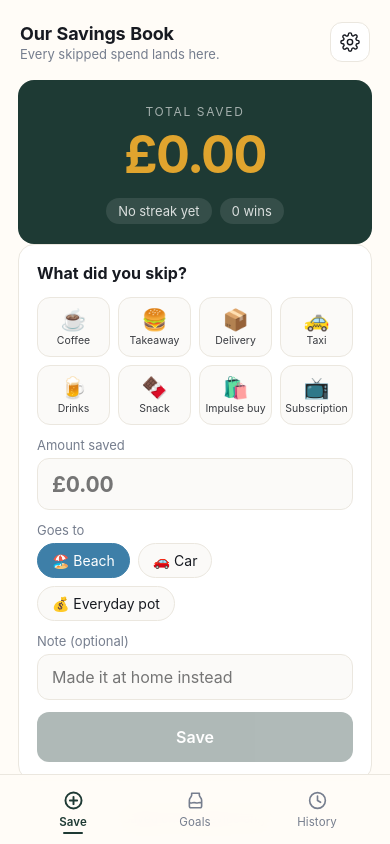
Test: renkler › hedef kartı kendi rengini taşır
Click the button "Goals": (195, 808) x1=134 y1=781 x2=256 y2=834
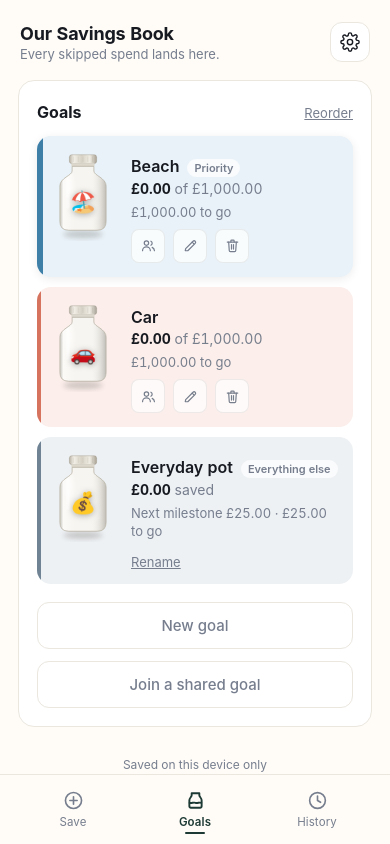
Expected: the number of elements with class "goal-tinted" is 3, x1=37 y1=136 x2=353 y2=277; x1=37 y1=287 x2=353 y2=427; x1=37 y1=437 x2=353 y2=584
